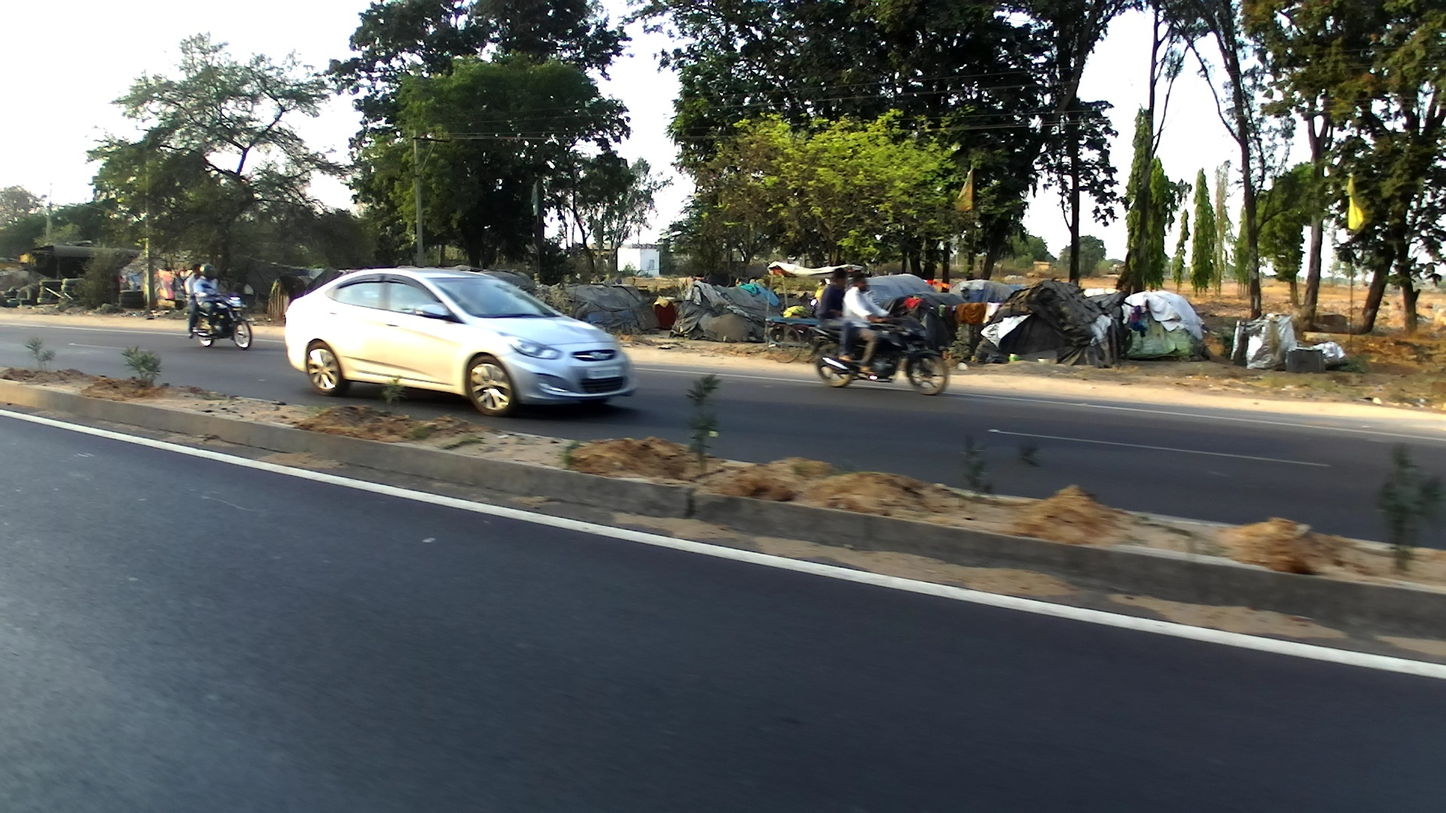car: (283, 263, 636, 417)
motorcycle: (808, 310, 950, 397), (180, 282, 253, 349)
rider: (841, 273, 901, 379), (819, 268, 857, 367), (194, 265, 230, 336), (184, 260, 202, 339)
vehicle fallback: (761, 258, 867, 365)
